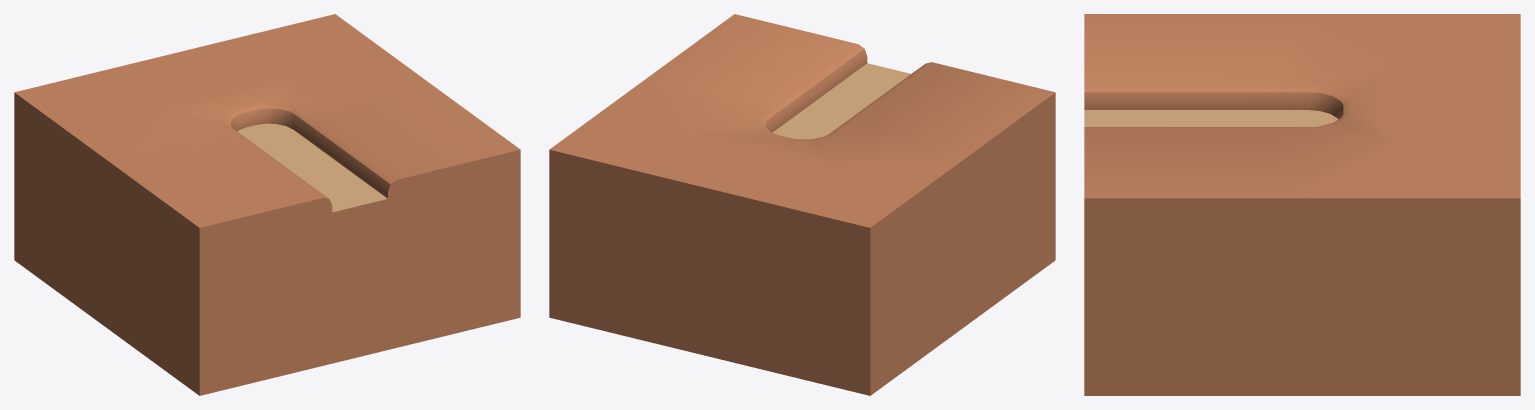
File: square_rock_roadA.glb
3 renders of one model, left to right at view 1: azimuth 30°, elevation 25°; view 2: azimuth 150°, elevation 25°; view 3: azimuth 270°, elevation 25°, orthographic. The views are drawn at different scales.
Parts seen in each view (by area): view 1: square_rock_roadA; view 2: square_rock_roadA; view 3: square_rock_roadA.
Boxes of the visible parts, x1,y1,x2,y2 form: square_rock_roadA: (14, 14, 520, 395); square_rock_roadA: (549, 14, 1055, 395); square_rock_roadA: (1084, 14, 1520, 395).
Bounding box in the file's own units: 2 × 1 × 2.
